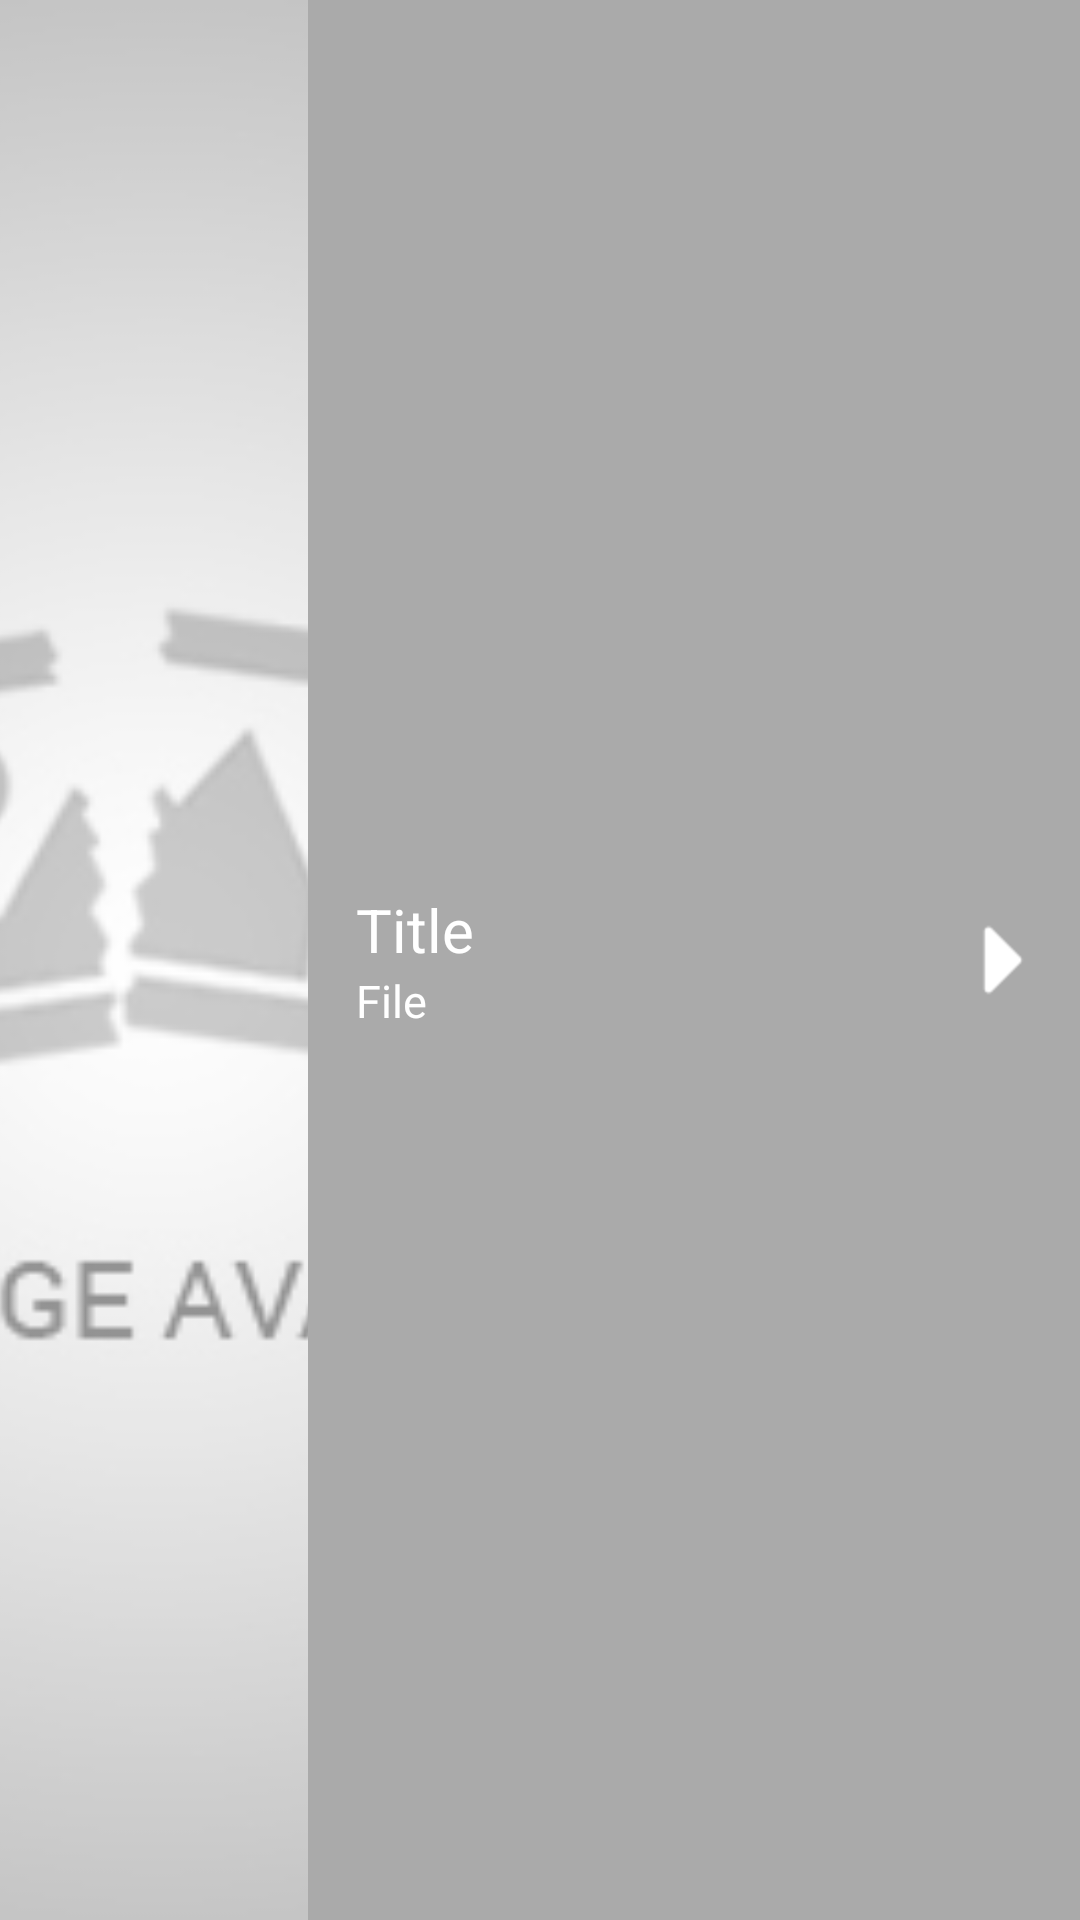

Named icons in this screenshot (1080px×1920px) and their centers, point (x, y):
play: point (1003, 960)
